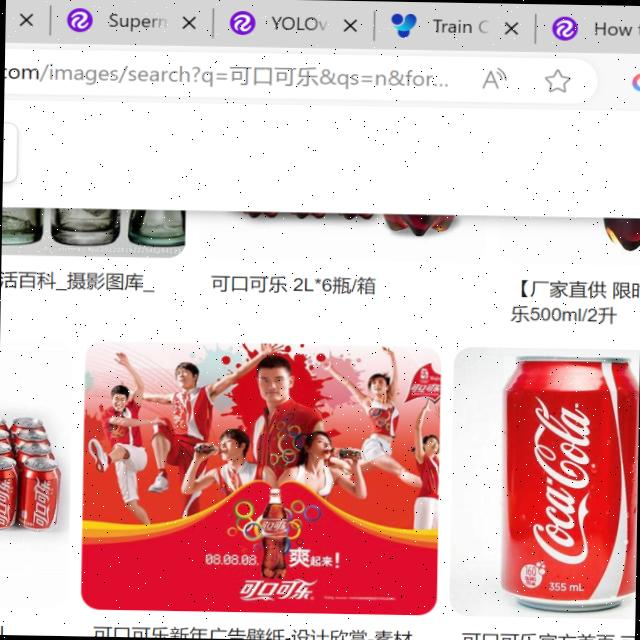coca_cola: (499, 356, 639, 604), (22, 456, 62, 532), (0, 455, 22, 530)
